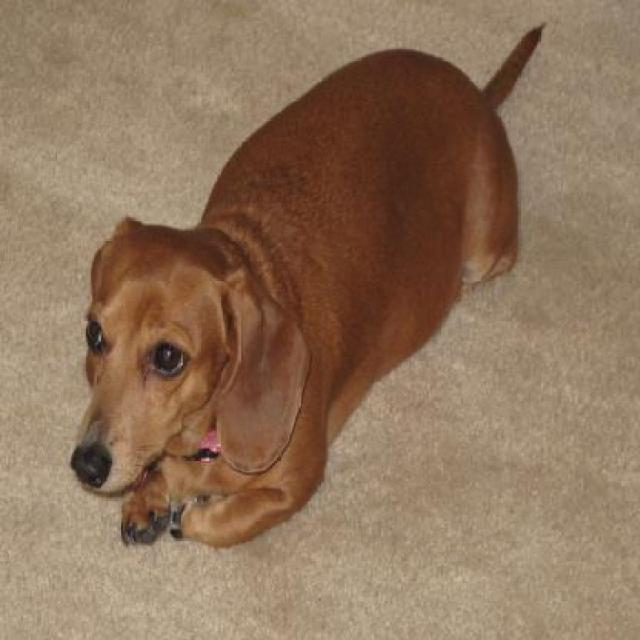Dog: (68, 8, 548, 562)
